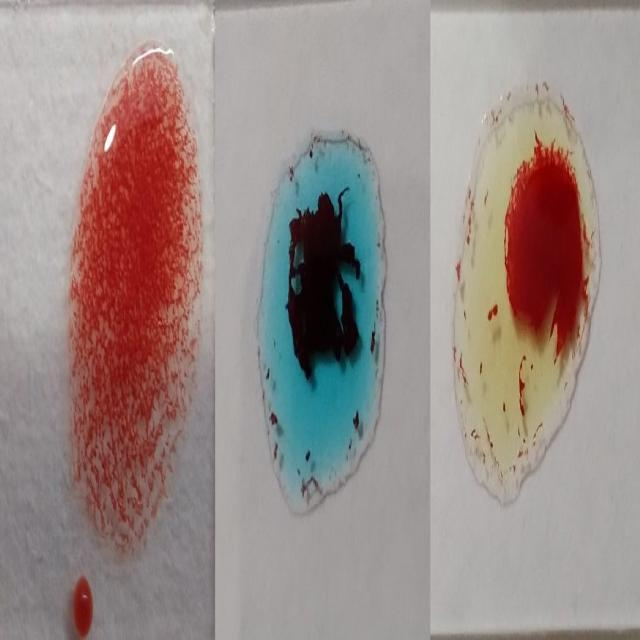A: (257, 133, 390, 500)
B: (458, 78, 604, 502)
D: (67, 50, 205, 555)
